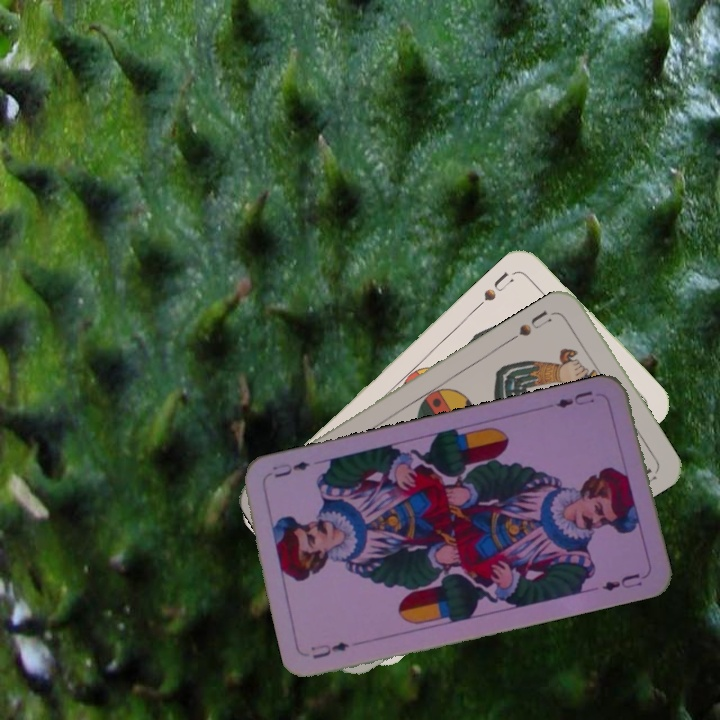EU: (551, 387, 598, 411), (306, 637, 351, 662)
SU: (514, 306, 560, 339), (479, 267, 517, 304)
